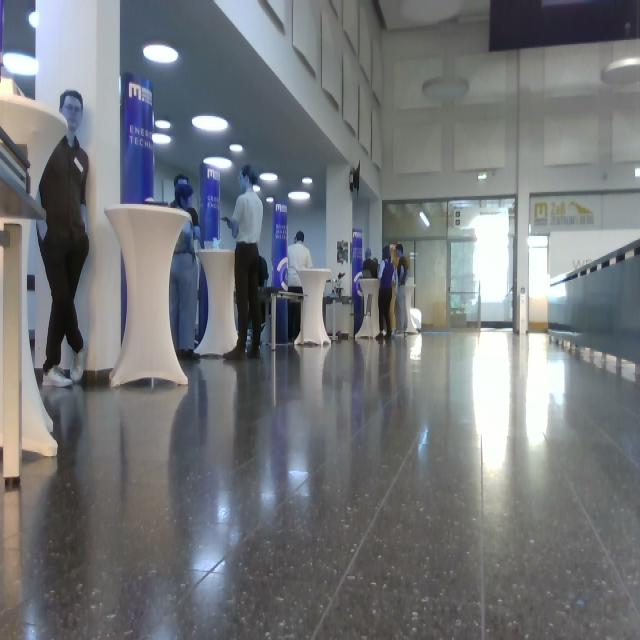door: (448, 237, 478, 327)
light bulb: (421, 76, 468, 101), (600, 56, 639, 84), (2, 51, 38, 76), (142, 43, 178, 64), (191, 113, 227, 132), (203, 156, 232, 169), (287, 189, 310, 200), (152, 132, 171, 144), (418, 209, 429, 227), (28, 9, 38, 28), (154, 119, 170, 128), (259, 172, 277, 180), (229, 143, 242, 152), (301, 176, 312, 184), (477, 170, 486, 178), (252, 184, 260, 191), (265, 196, 273, 201)
person: (36, 89, 89, 387), (220, 164, 263, 360), (168, 175, 200, 360), (286, 229, 313, 343)
staircase: (545, 236, 639, 376)
table: (102, 200, 194, 392)
tiled floor: (0, 327, 638, 637)
